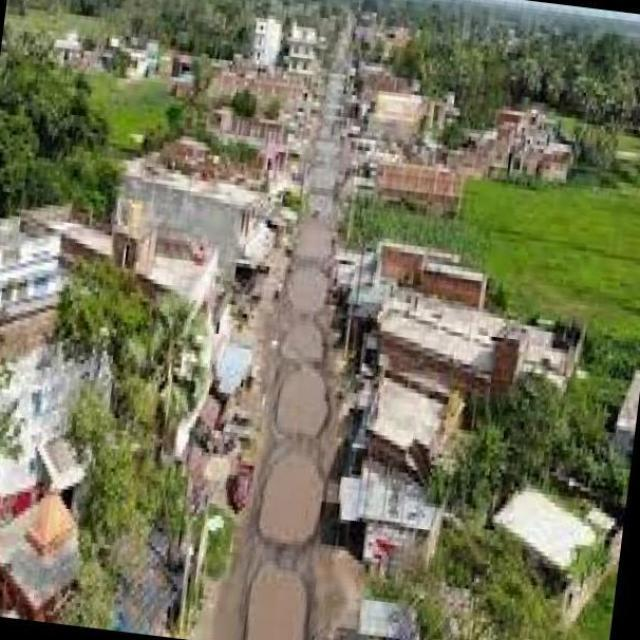Pathole: (256, 455, 323, 545), (244, 564, 308, 640), (275, 371, 326, 438), (290, 266, 325, 309), (287, 324, 321, 361)
